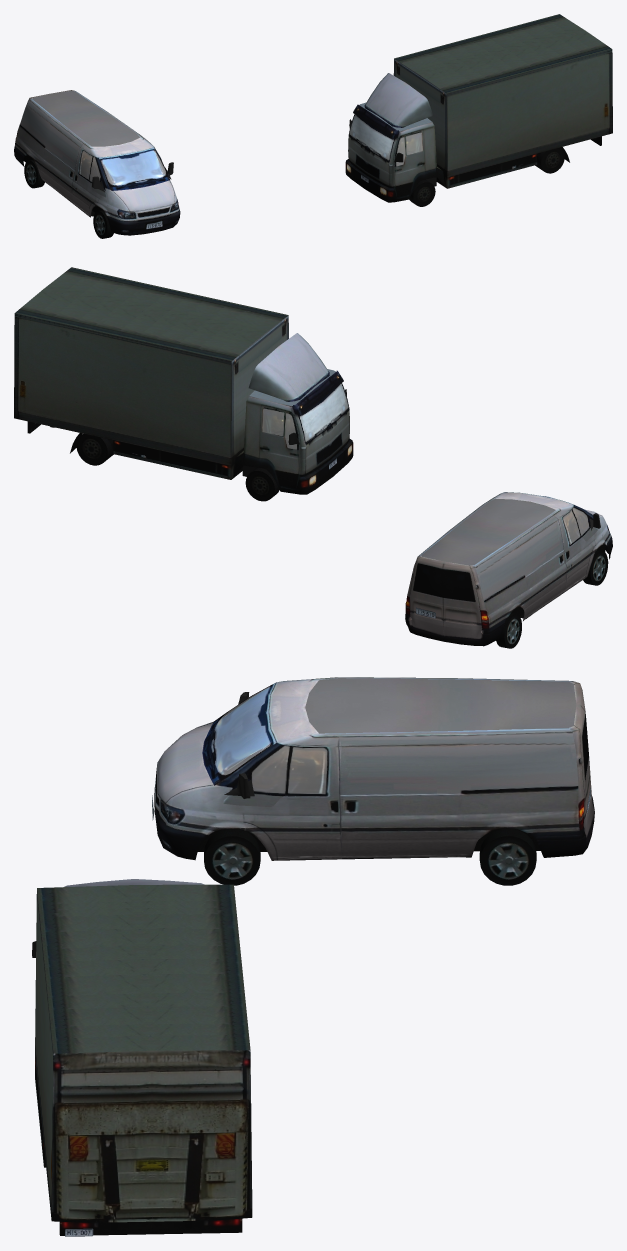
The model's file is french_pub_trucks.FBX.
3 views of the same model, one above another, from view 1: azimuth 30°, elevation 25°; view 2: azimuth 150°, elevation 25°; view 3: azimuth 270°, elevation 25° (orthographic). The views are drawn at different scales.
Visible parts, largest first — view 1: vehicule01, vehicule05; view 2: vehicule01, vehicule05; view 3: vehicule05, vehicule01.
Boxes of the visible parts, bbox=[...] form: vehicule01: bbox=[345, 14, 612, 206]; vehicule05: bbox=[14, 90, 180, 238]; vehicule01: bbox=[14, 267, 353, 501]; vehicule05: bbox=[405, 492, 612, 648]; vehicule05: bbox=[152, 677, 594, 885]; vehicule01: bbox=[32, 879, 252, 1236].
Size of the model in its own units: 1009 by 228 by 520.
